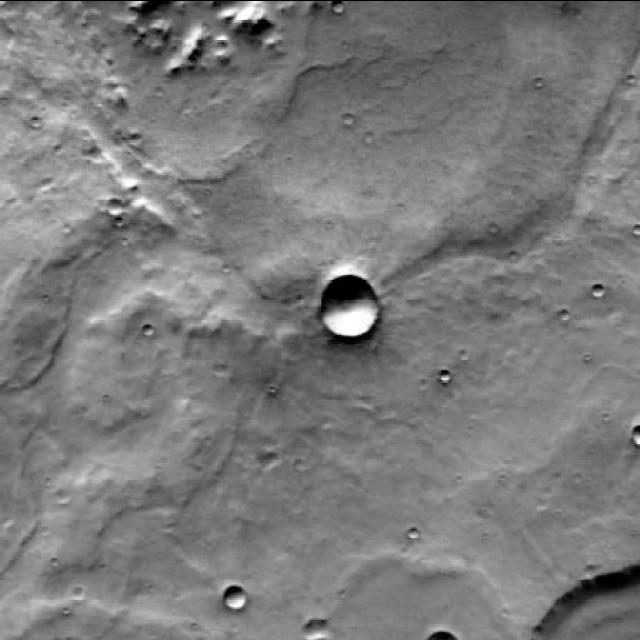crater: (54, 0, 640, 340), (526, 562, 638, 640), (316, 278, 376, 340), (221, 584, 247, 610), (260, 447, 278, 465), (108, 195, 125, 212), (407, 524, 421, 538)
